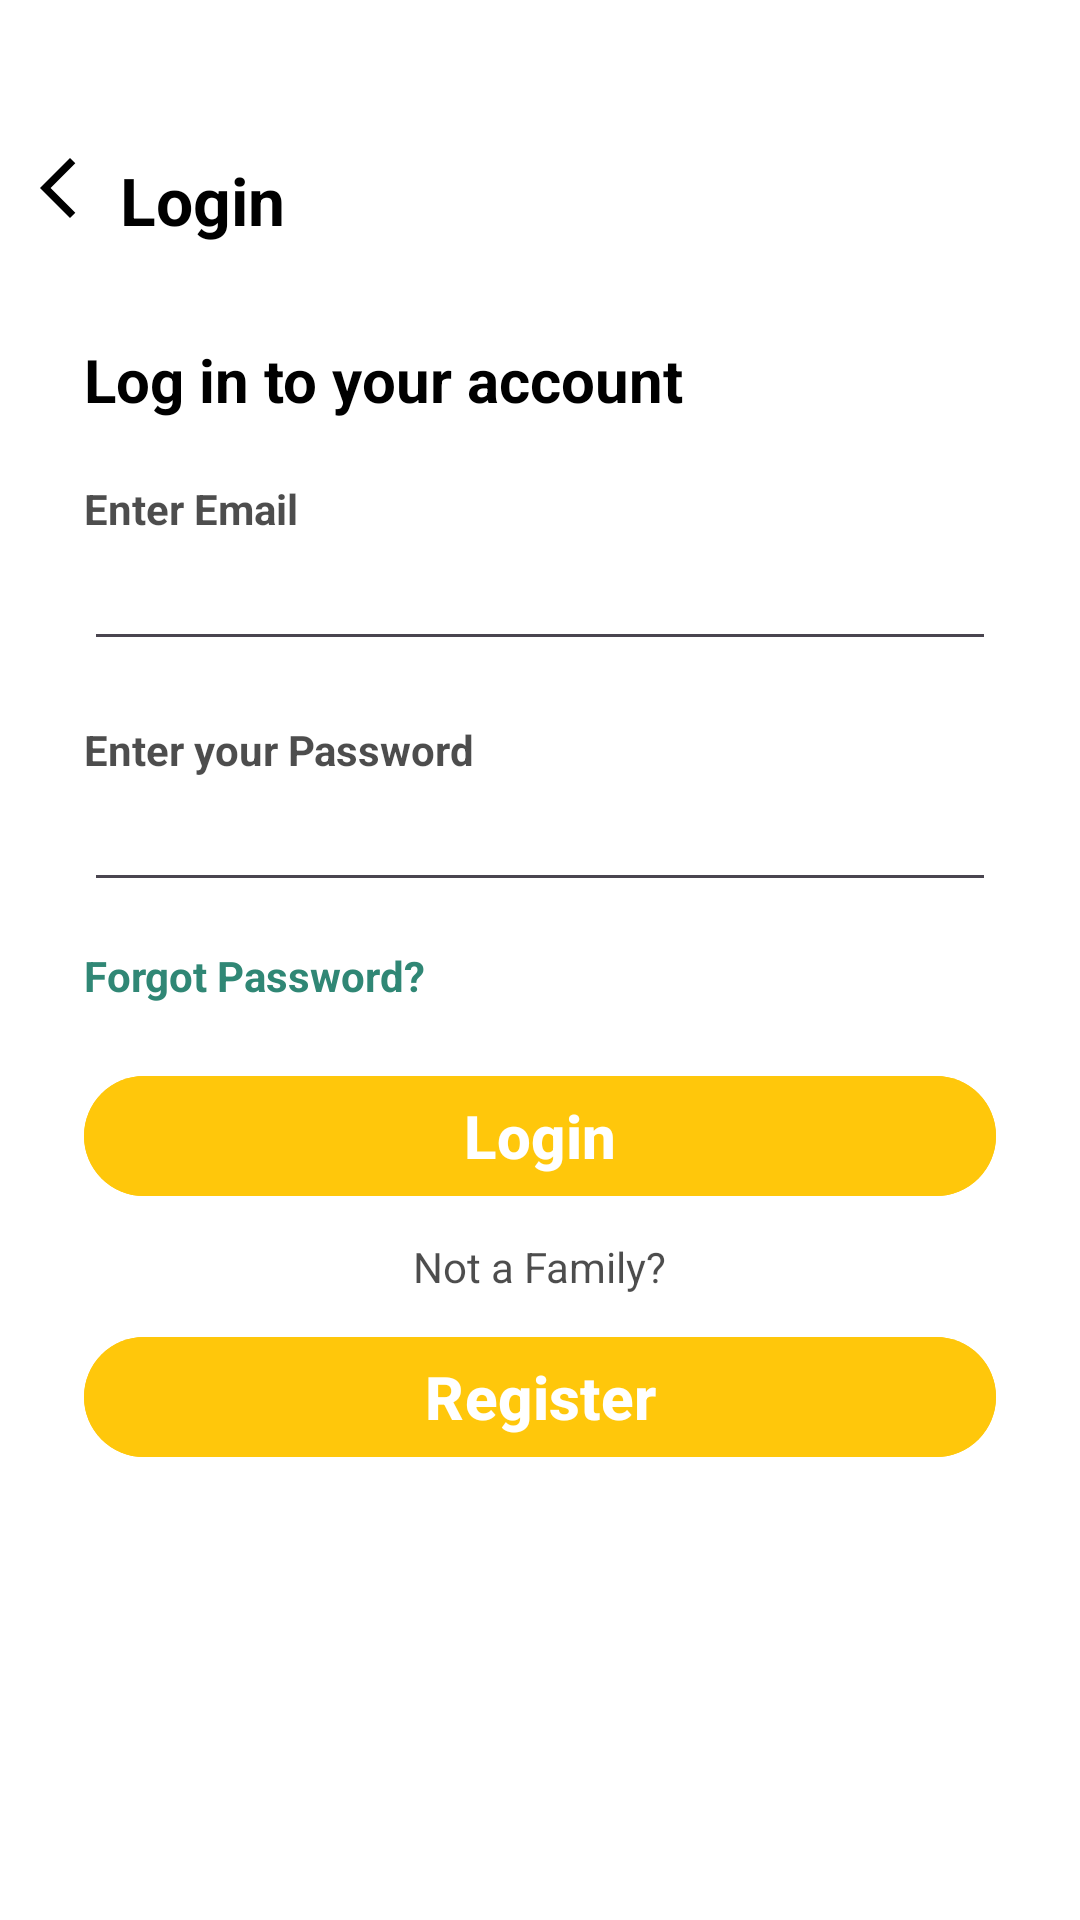

Icon click points for this 1080x1920 phone screenshot, format point (x, y):
backarrow: point (57, 188)
